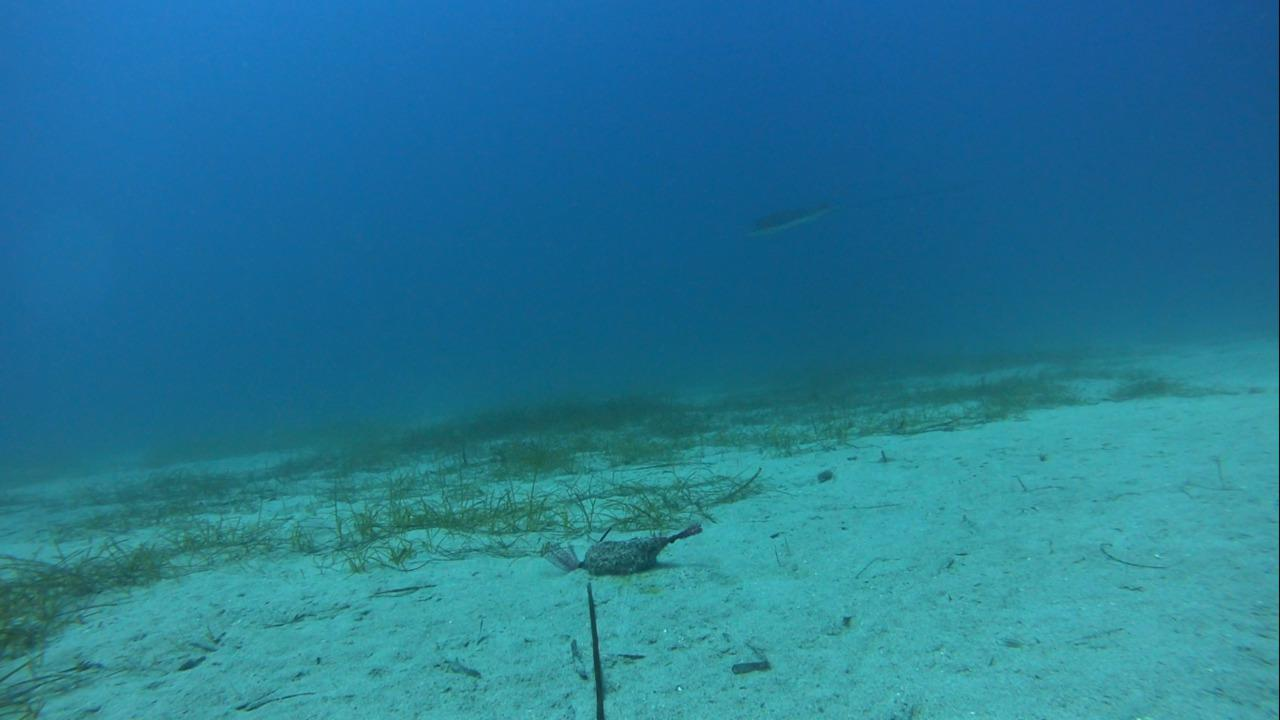myliobatis: (738, 182, 957, 248)
